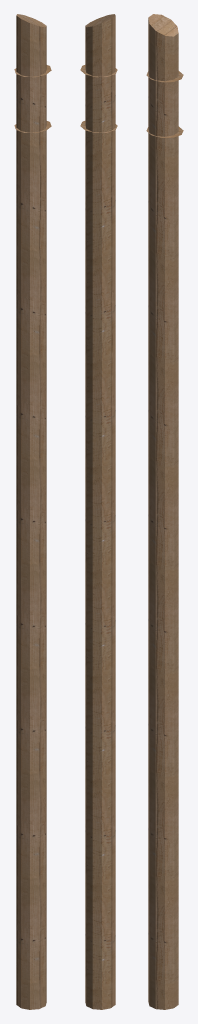
File: wood.obj
The picture shows the model from 3 angles, left to right: view 1: azimuth 30°, elevation 25°; view 2: azimuth 150°, elevation 25°; view 3: azimuth 330°, elevation 25°; orthographic projection.
Parts seen in each view (by area): view 1: Cube.003_Cube.005; view 2: Cube.003_Cube.005; view 3: Cube.003_Cube.005.
Boxes of the visible parts, x1=… form: Cube.003_Cube.005: x1=14, y1=14, x2=51, y2=1009; Cube.003_Cube.005: x1=80, y1=14, x2=117, y2=1009; Cube.003_Cube.005: x1=146, y1=14, x2=183, y2=1009.
Size of the model in its own units: 0.1759 by 4.93 by 0.1485.
